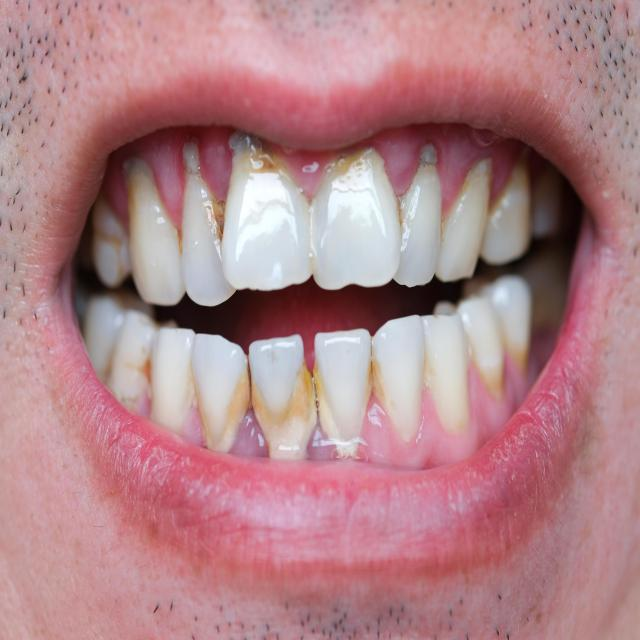tooth: (307, 148, 401, 290), (222, 142, 311, 291), (127, 162, 186, 306), (248, 335, 312, 456), (182, 167, 237, 306), (314, 328, 372, 454), (434, 295, 505, 395), (371, 315, 425, 444), (434, 162, 491, 282), (193, 334, 251, 450), (393, 157, 442, 288), (466, 275, 533, 362), (421, 312, 471, 428), (479, 159, 532, 262), (84, 295, 153, 371), (151, 321, 197, 431), (106, 309, 161, 398), (92, 193, 131, 286), (531, 168, 561, 234)
